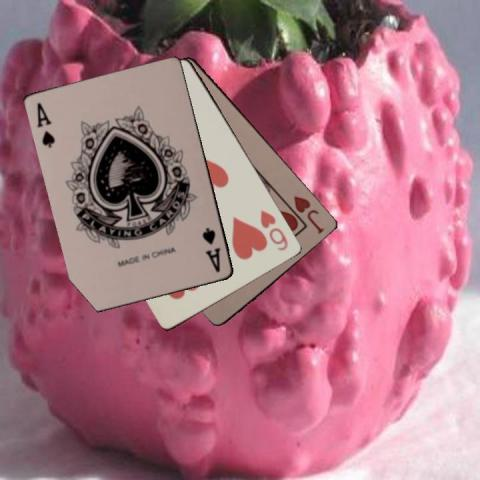6h: (257, 207, 290, 253)
As: (34, 100, 57, 150), (199, 225, 222, 274)
Jh: (291, 193, 326, 236)
